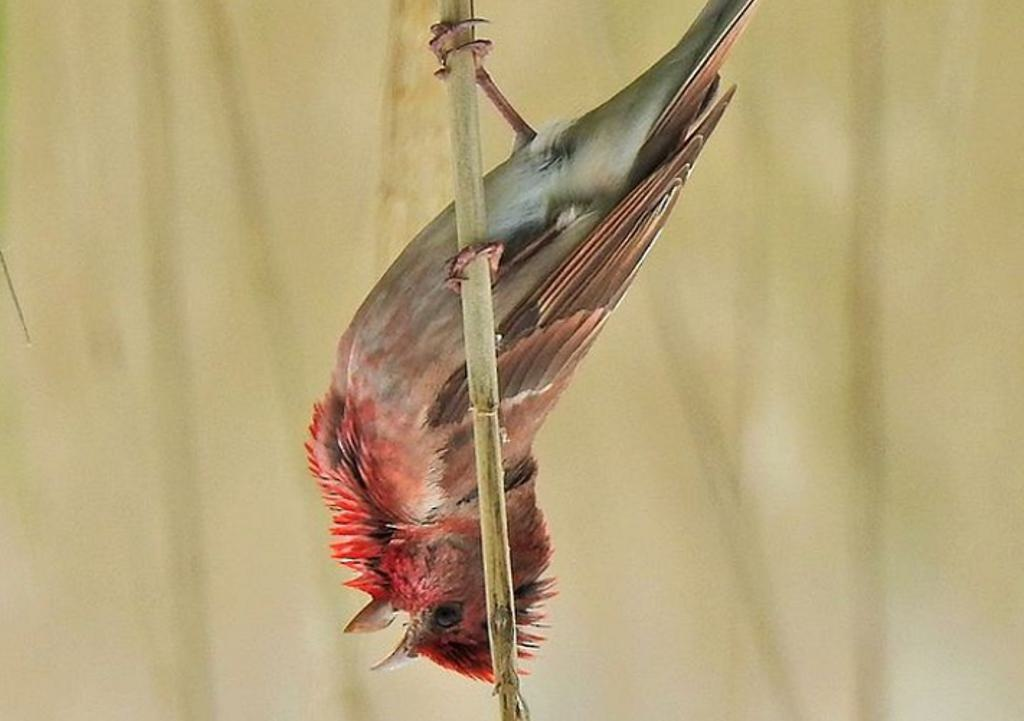rosefinch: (316, 28, 736, 690)
